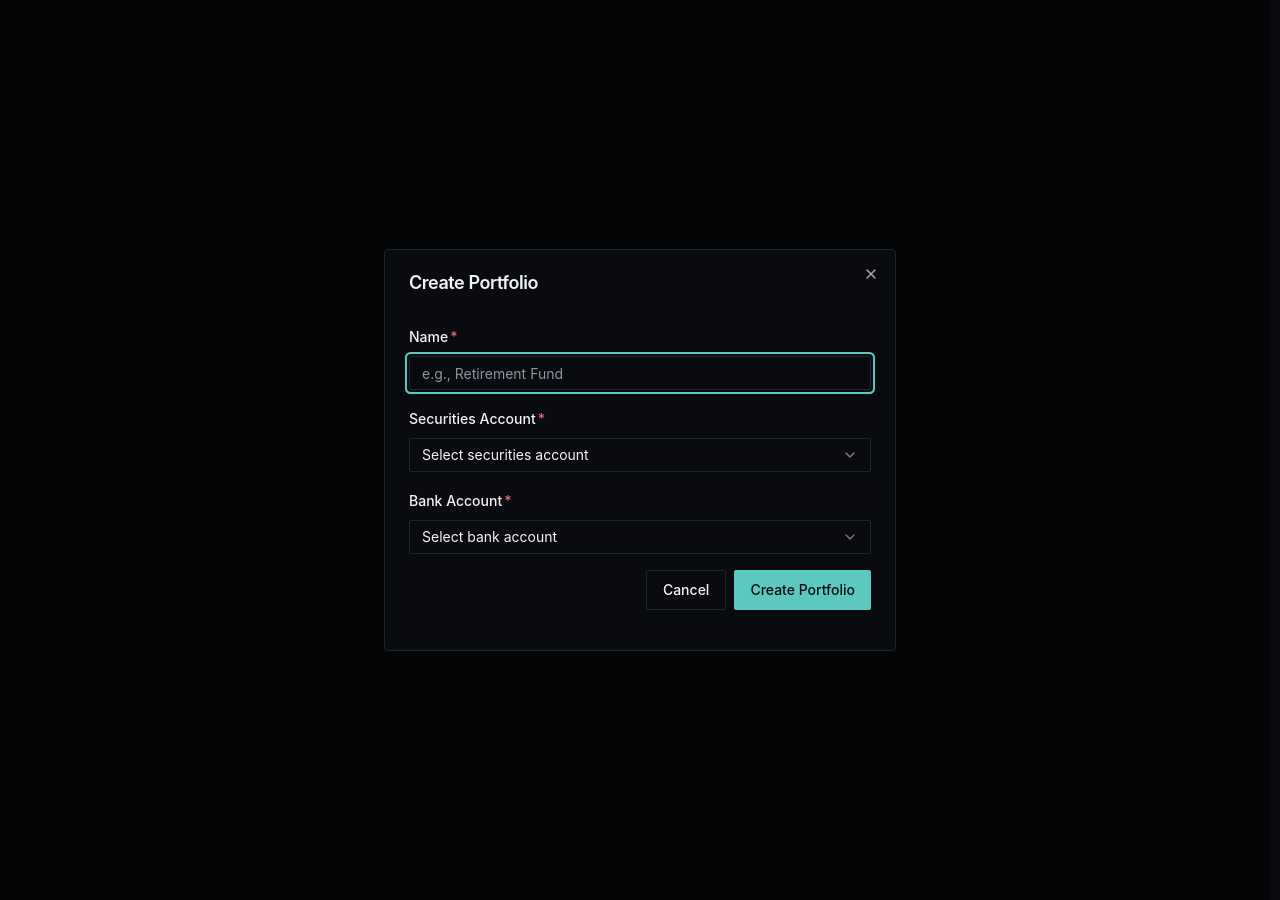
PortfolioForm › blocks the submit and marks the name when it is cleared
The width and height of the screenshot is (1280, 900).
What coordinates should you click on to do the following:
click the button "Create Portfolio"
I would click on:
 (803, 590)
Its box is [734,570,871,610].
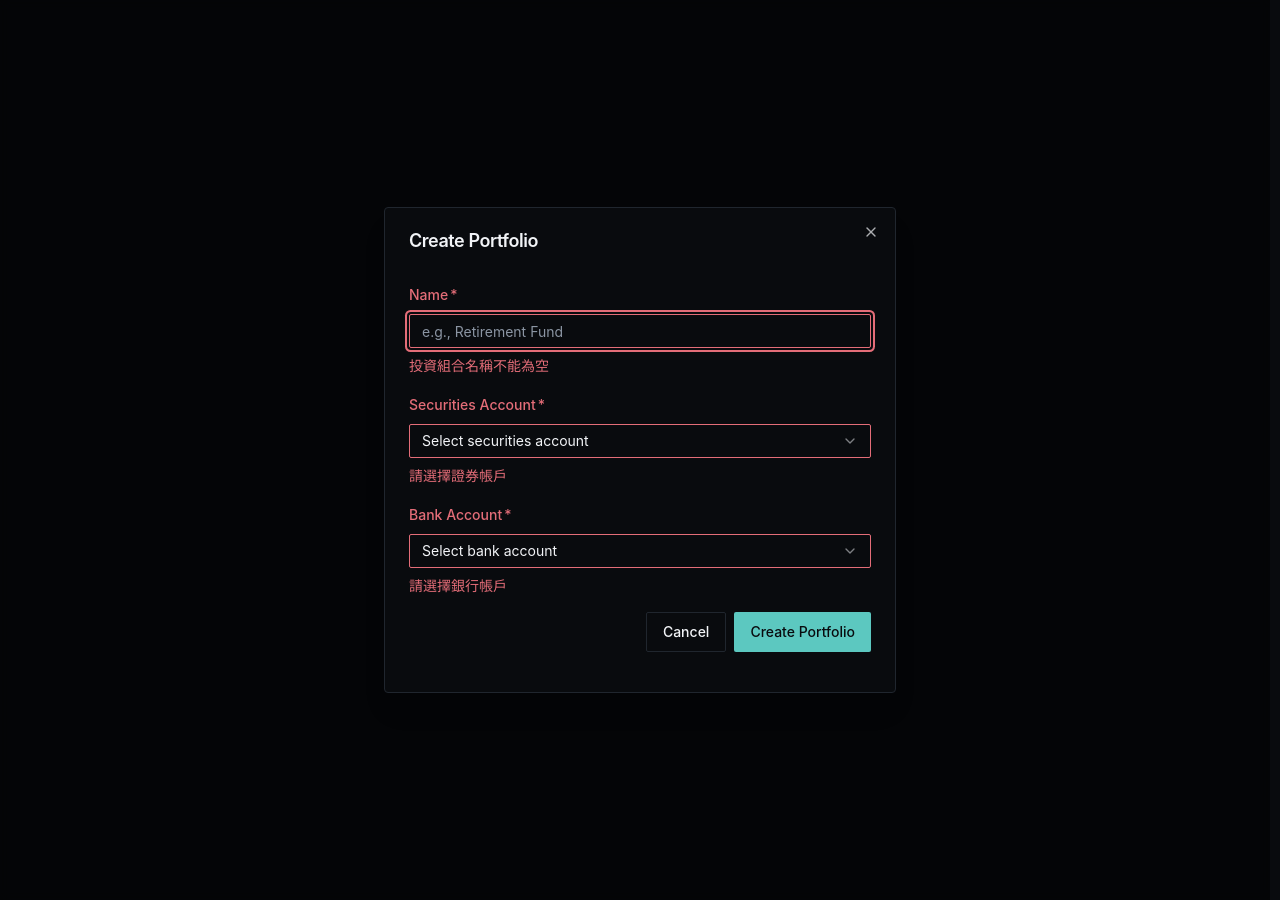
Result: the text "投資組合名稱不能為空" is shown at [409,357,549,374]
